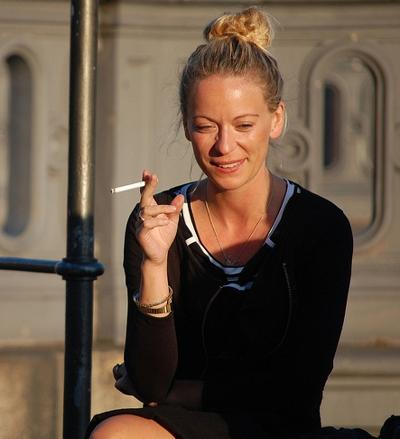person: (89, 12, 355, 439)
